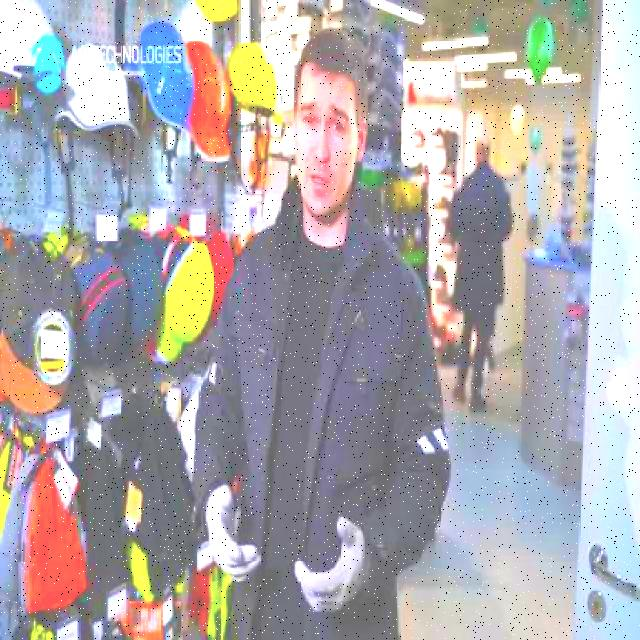Gloves: (292, 510, 371, 622), (204, 482, 260, 586)
Helmet: (132, 25, 200, 144), (55, 49, 140, 142), (0, 2, 69, 93), (186, 41, 232, 165), (230, 44, 276, 118)
